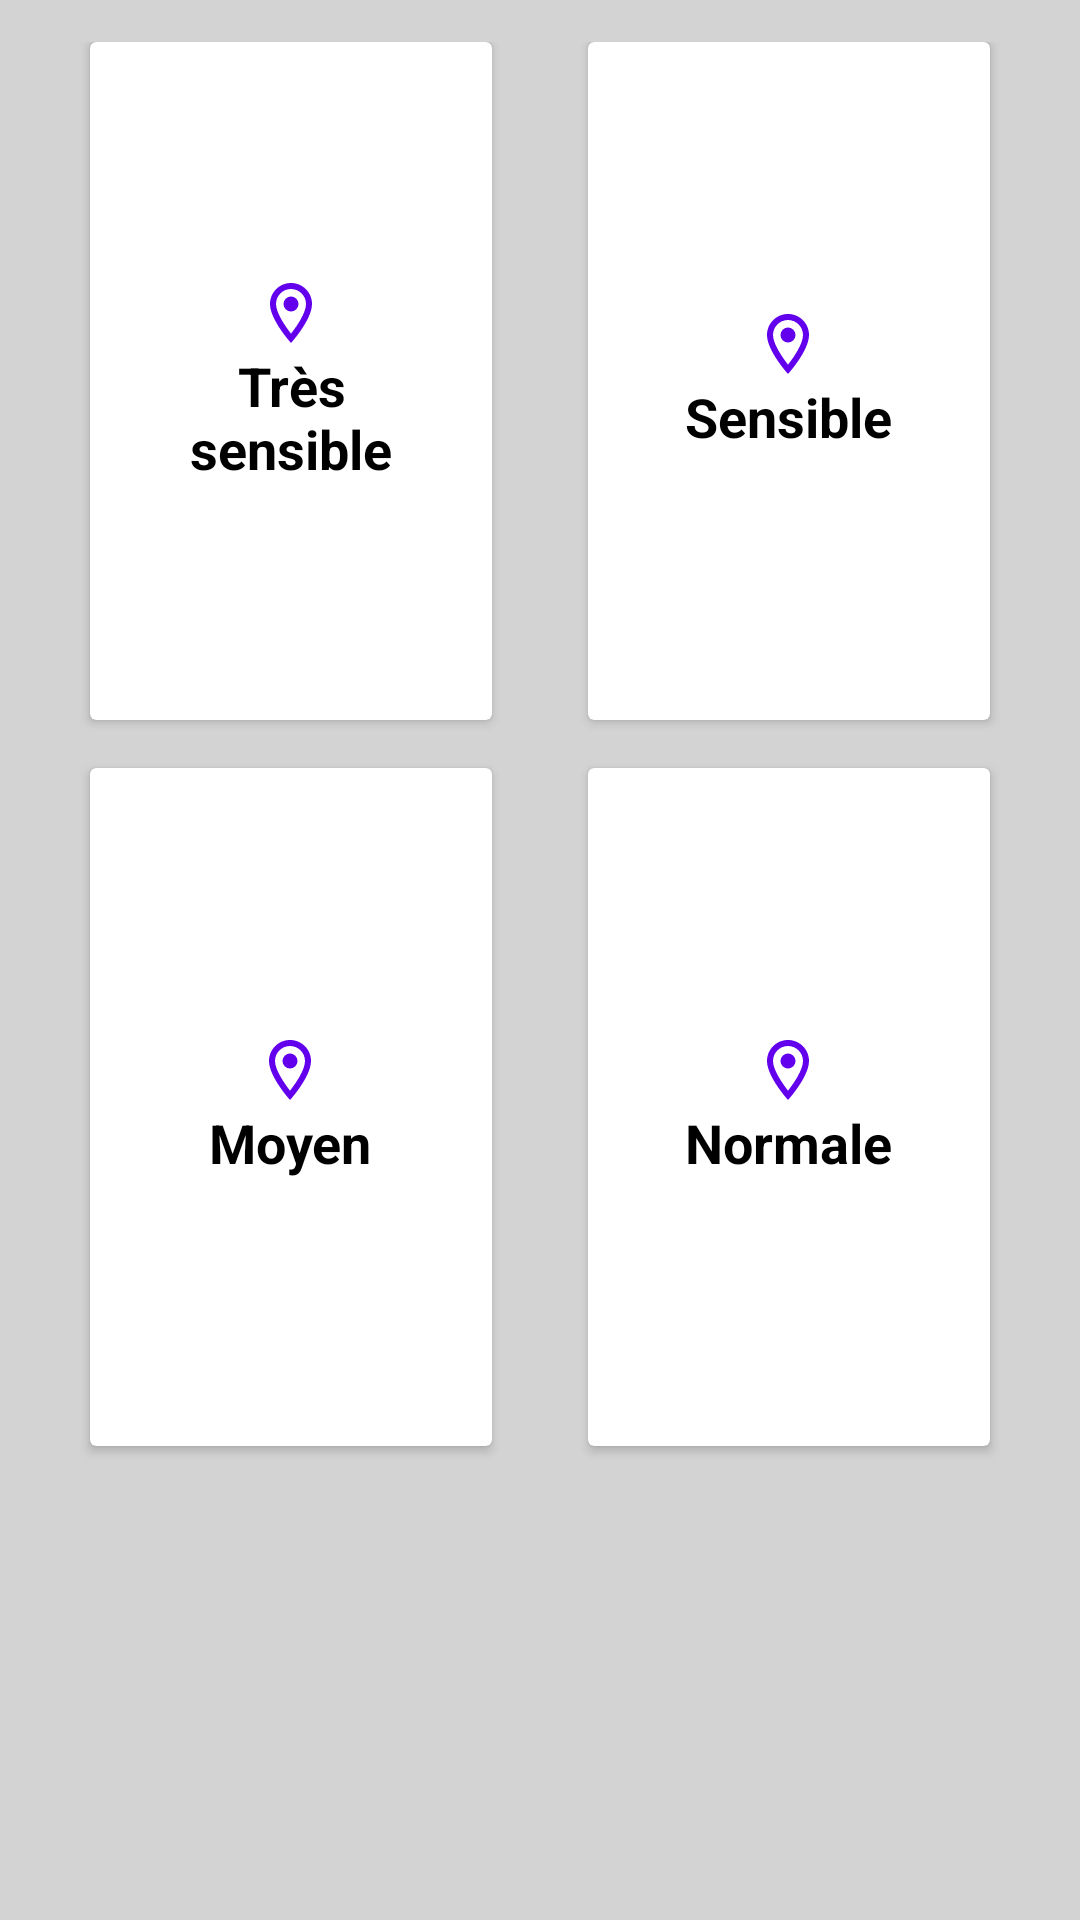

Point at icon controls on the screen. Image size 1080px x 1920px, points as [x,y].
location on: [291,313], [788,344], [290,1070], [788,1070]
